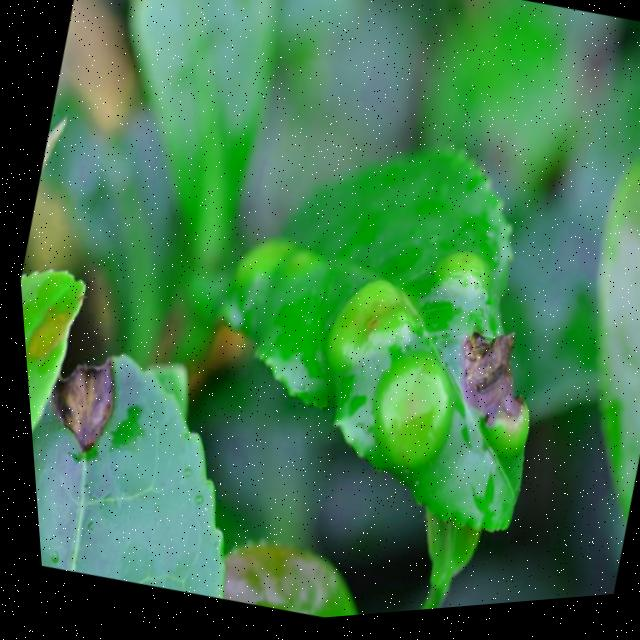Tea cake: (436, 318, 559, 448), (353, 341, 455, 482), (313, 264, 421, 381), (418, 231, 503, 318)
